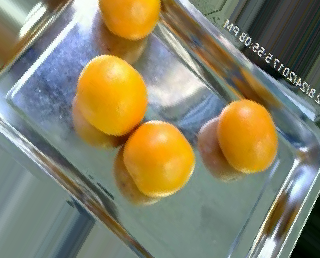Orange: (122, 118, 196, 197), (76, 55, 147, 136), (216, 99, 279, 175)
